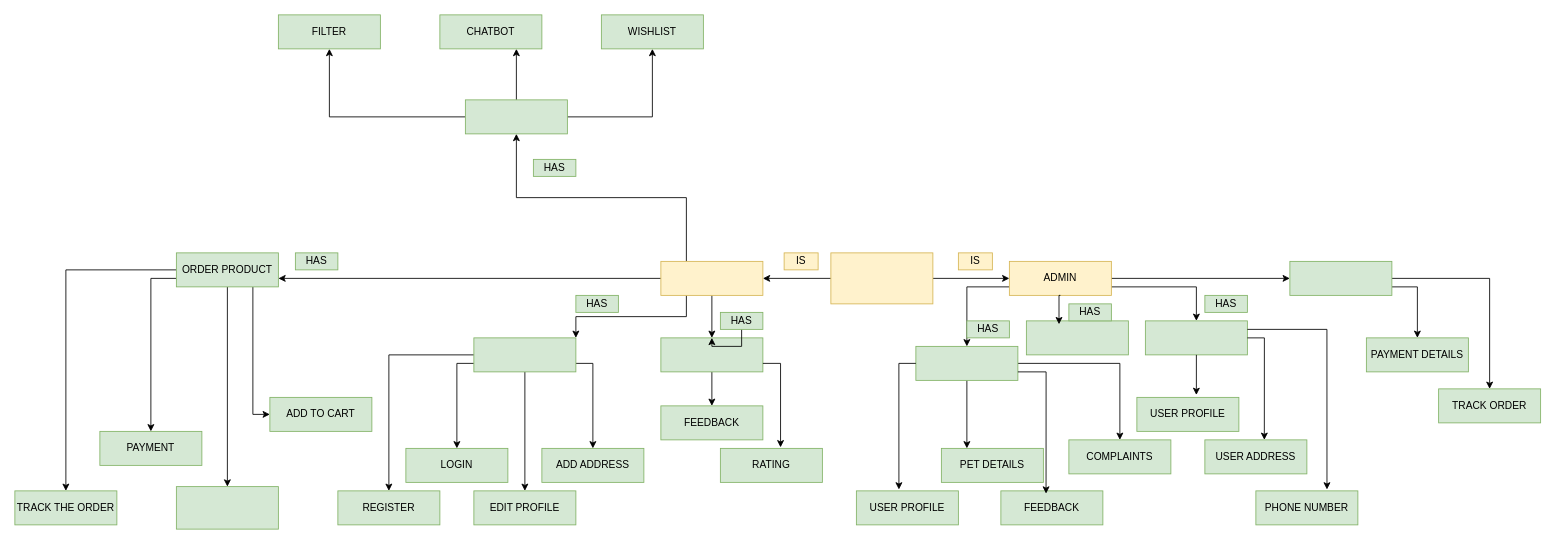
Some shapes in this 1556 by 544 pixel diagram are drawn without their labels. The centre of each missing label's shape, as x and y in pixels:
CHECKOUT: (x=227, y=507)
CREATE PROFILE: (x=524, y=354)
DELETION: (x=966, y=363)
ORDER DETAILS: (x=1340, y=278)
REPORT: (x=1077, y=337)
SEARCH: (x=516, y=116)
SYSTEM USER: (x=881, y=278)
USER: (x=711, y=278)
USER INTERACTION: (x=711, y=354)
VERIFY PROFILE: (x=1196, y=337)
